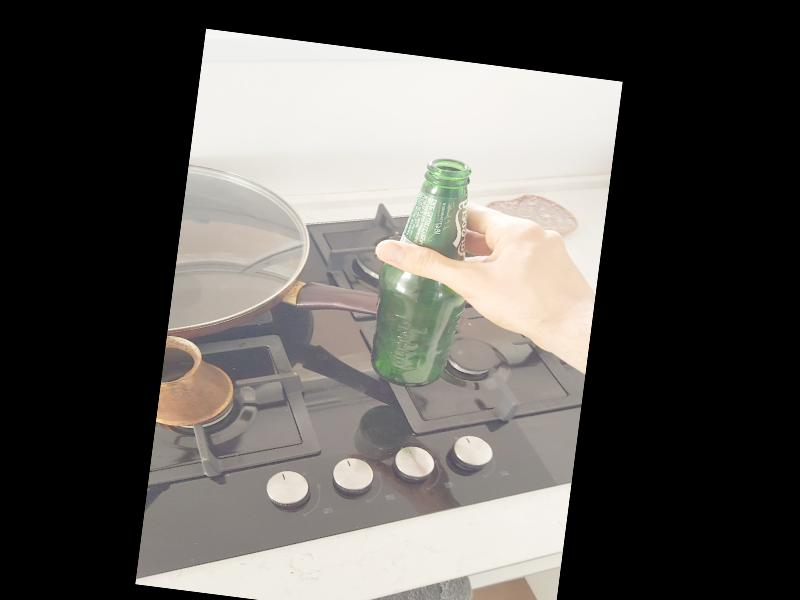Beer: (368, 154, 473, 390)
